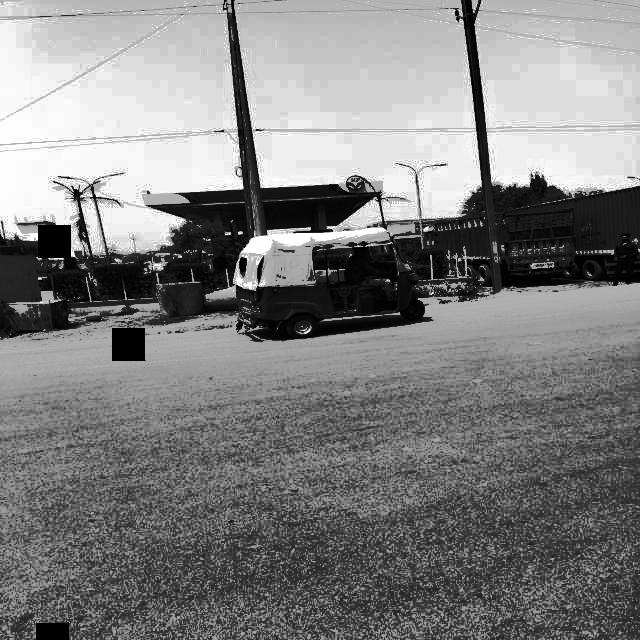Auto-Rickshaw: (226, 223, 437, 338)
